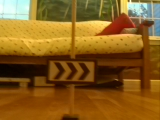right: (46, 59, 97, 83)
